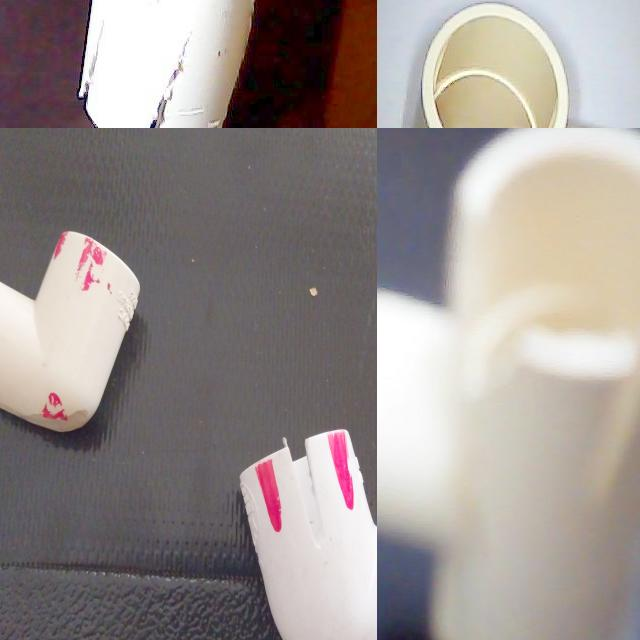Defective: (97, 0, 241, 128), (430, 262, 550, 414), (604, 324, 640, 522), (230, 276, 298, 344), (72, 523, 140, 581), (211, 129, 273, 188), (85, 624, 153, 640)
L Joint: (146, 128, 298, 378), (0, 510, 149, 640)
T Joint: (398, 0, 601, 128), (77, 0, 259, 128)
